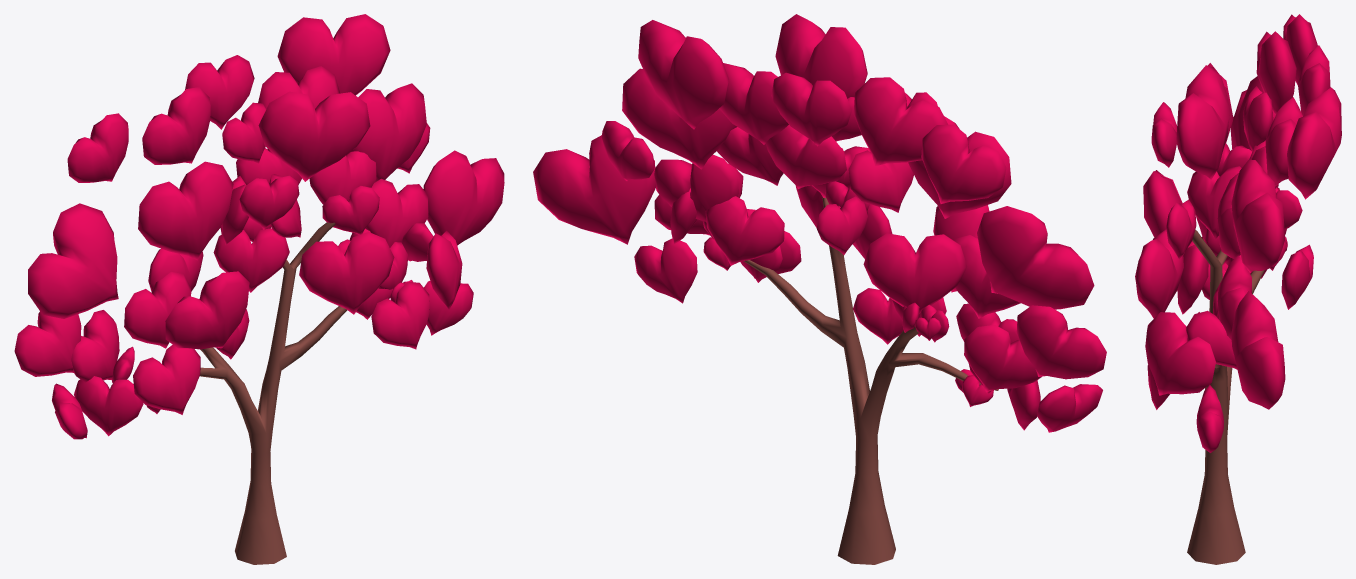
Rendered from tree.fbx.
3 renders of one model, left to right at view 1: azimuth 30°, elevation 25°; view 2: azimuth 150°, elevation 25°; view 3: azimuth 270°, elevation 25°, orthographic. The views are drawn at different scales.
Visible parts, largest first — view 1: heart, tree; view 2: heart, tree; view 3: heart, tree.
Boxes of the visible parts, x1,y1,x2,y2 form: heart: (14,14,504,439); tree: (200,222,347,564); heart: (533,14,1106,432); tree: (744,196,998,564); heart: (1135,14,1341,452); tree: (1187,230,1264,564).
Bounding box in the file's own units: 8940 × 8089 × 2940.
